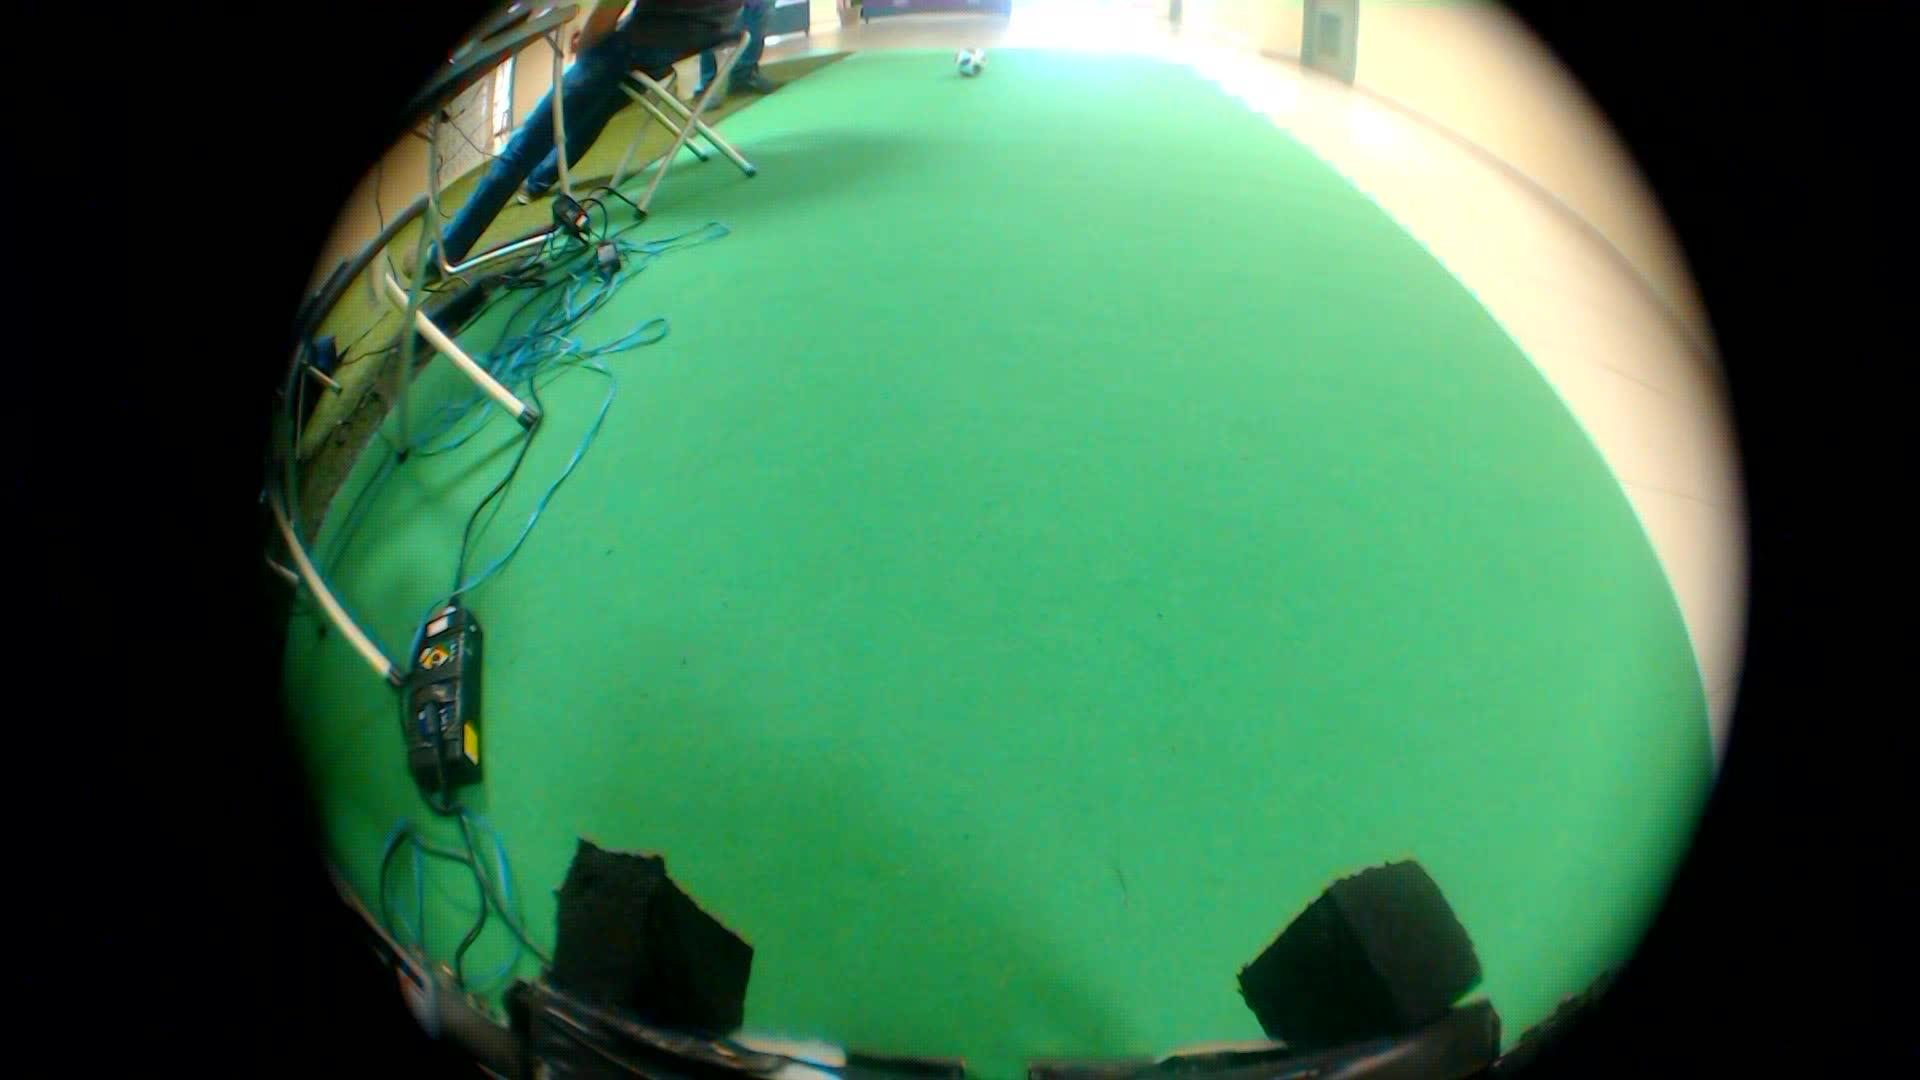ball: (942, 41, 986, 86)
